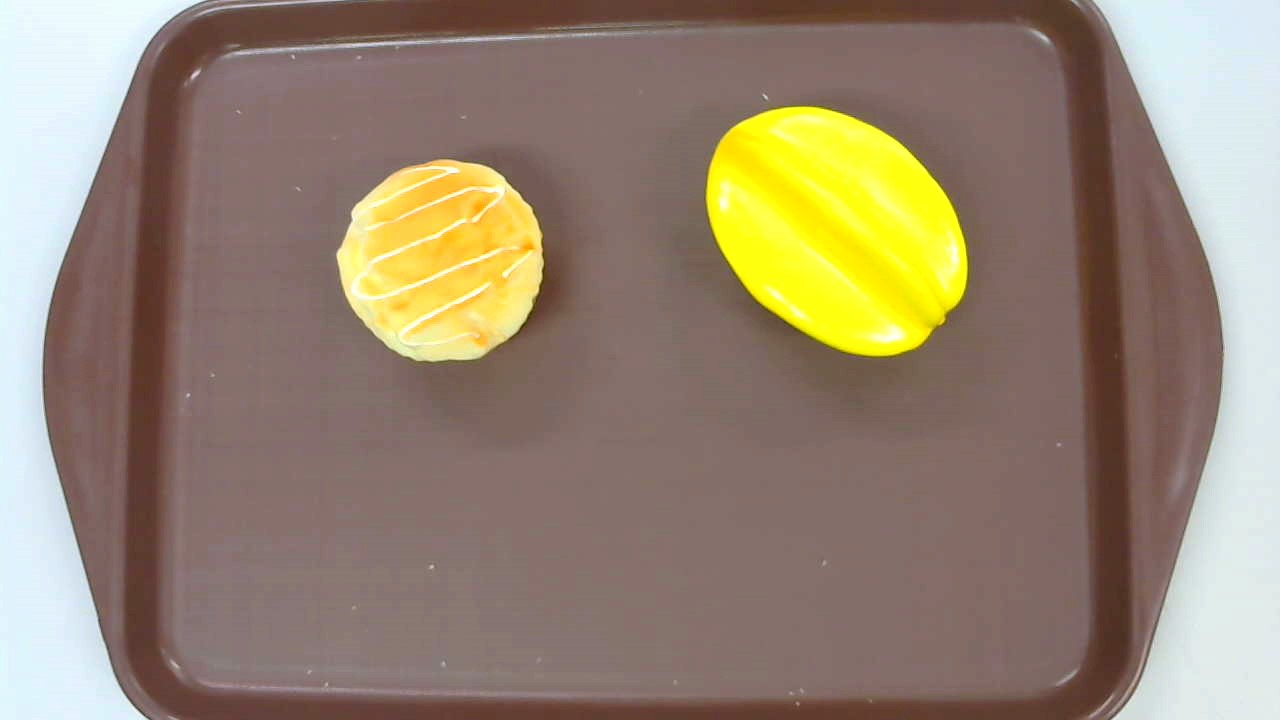cupcake: (335, 159, 547, 366)
star fruit: (705, 105, 968, 357)
